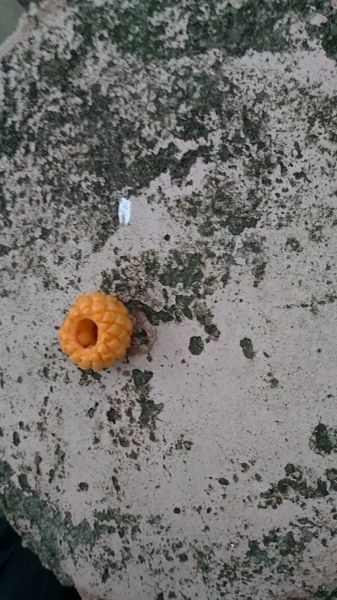eggs: (52, 290, 135, 374)
